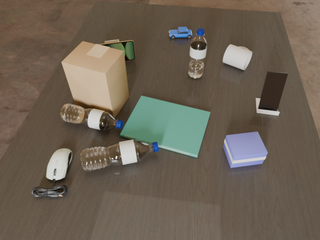book: (120, 96, 210, 157)
bottle: (80, 139, 158, 172), (60, 103, 123, 130), (188, 29, 207, 79)
box: (62, 41, 129, 118), (223, 132, 268, 168)
cup: (223, 44, 252, 70)
mouse: (46, 149, 72, 182)
phone: (258, 71, 288, 111), (99, 40, 135, 61)
toy_car: (169, 27, 192, 39)
